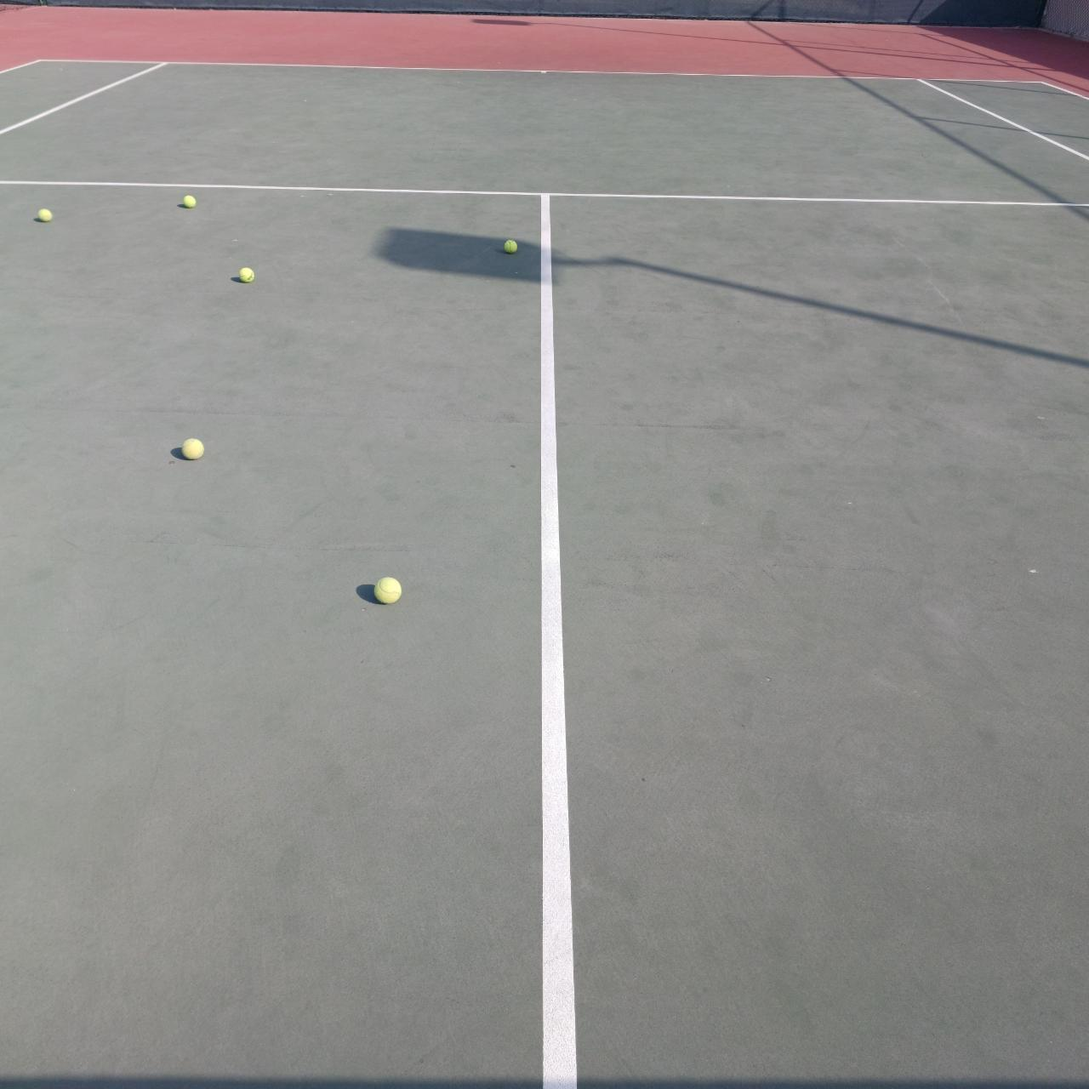tennis-ball: (372, 574, 402, 604), (180, 436, 204, 459), (237, 265, 255, 282), (36, 206, 52, 222), (504, 239, 518, 254), (182, 195, 196, 208)
